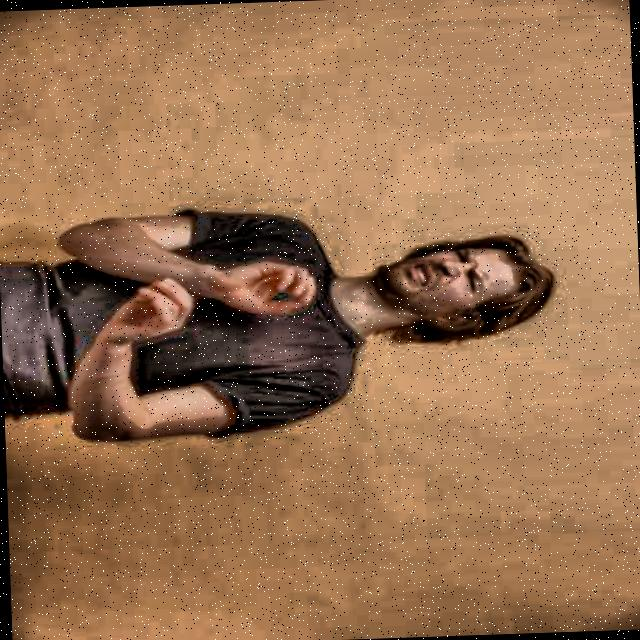disgust: (351, 219, 574, 360)
